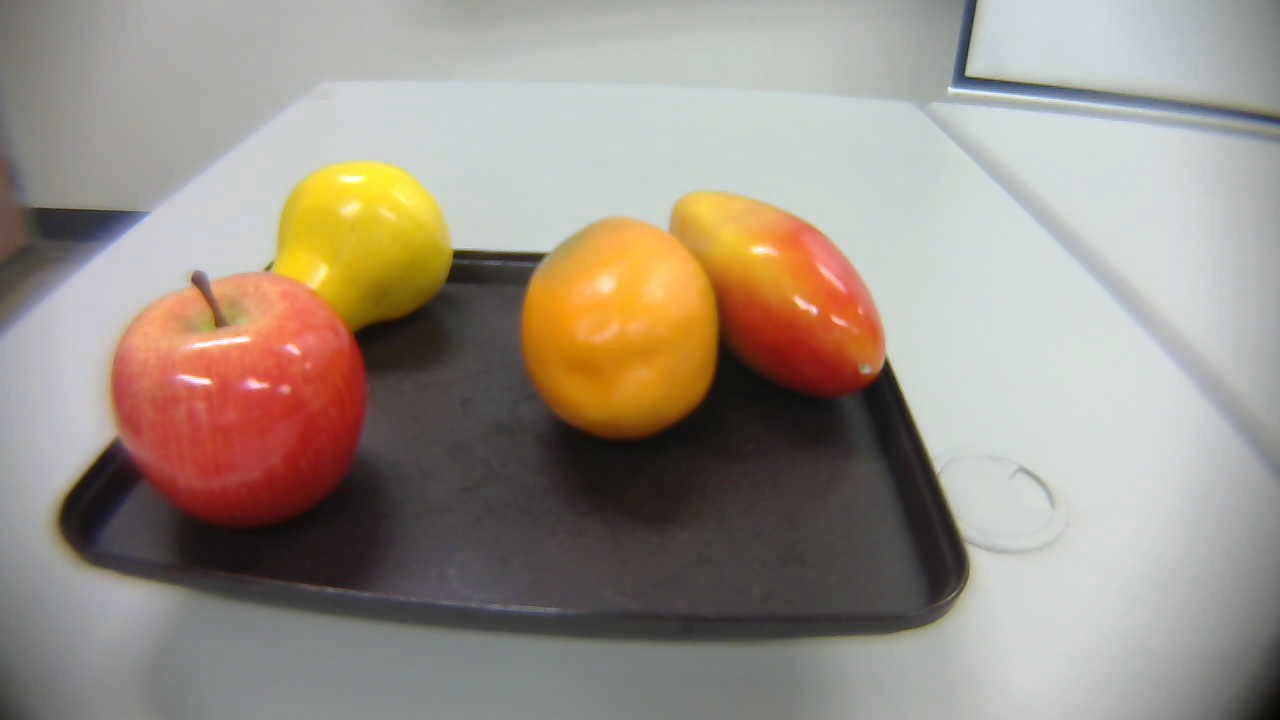papya: (507, 213, 733, 463)
red apple: (108, 266, 372, 551)
red mango: (663, 186, 910, 413)
yellow pear: (250, 154, 460, 364)
